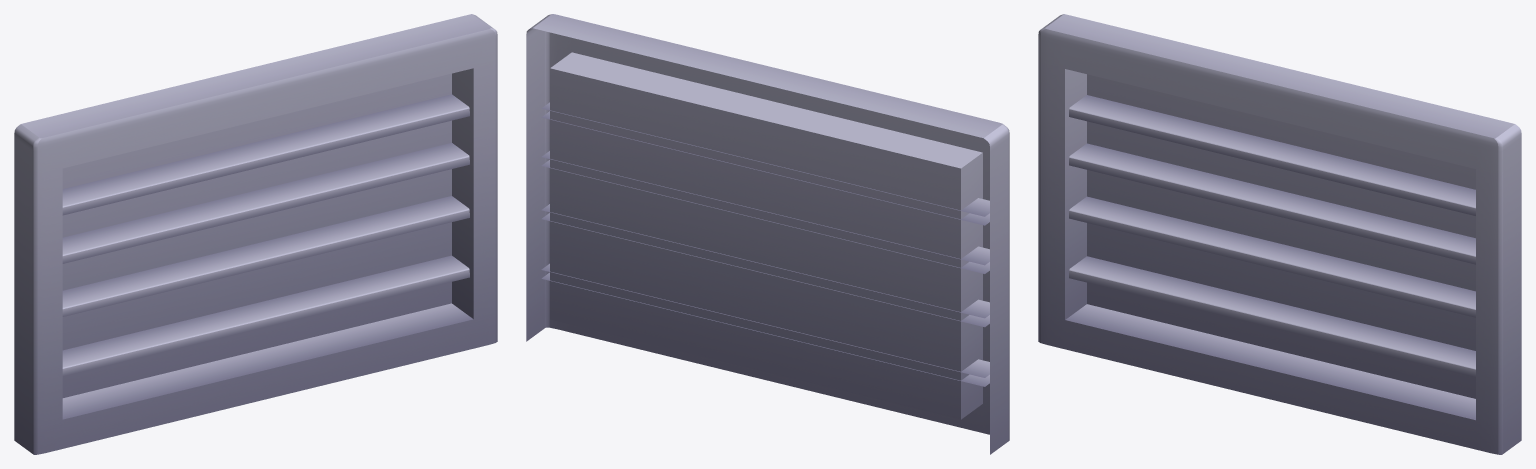
The model's file is asset_BigShelf1 1.fbx.
3 views of the same model, side by side, from view 1: azimuth 30°, elevation 25°; view 2: azimuth 150°, elevation 25°; view 3: azimuth 330°, elevation 25° (orthographic).
Parts seen in each view (by area): view 1: asset_BigShelf1; view 2: asset_BigShelf1; view 3: asset_BigShelf1.
Part boxes in pixels (bbox=[...]): asset_BigShelf1: bbox=[14, 14, 497, 454]; asset_BigShelf1: bbox=[526, 14, 1009, 454]; asset_BigShelf1: bbox=[1038, 14, 1521, 454].
Size of the model in its own units: 341 by 222 by 28.43.
1 material, 1 textured.
